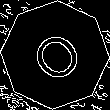O_SE: (22, 22, 88, 88)
